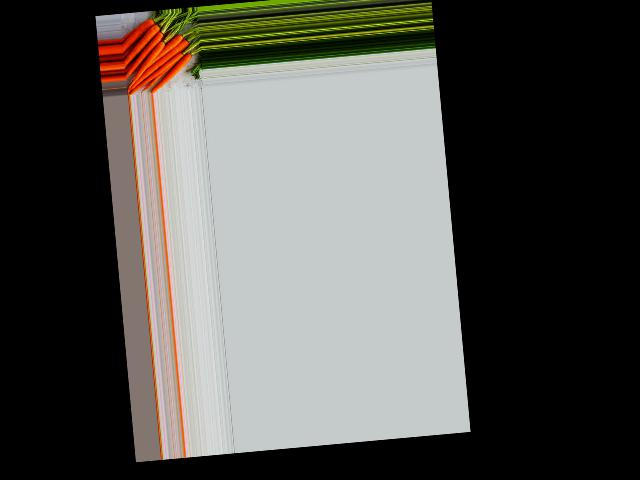carrot: (119, 18, 156, 47)
